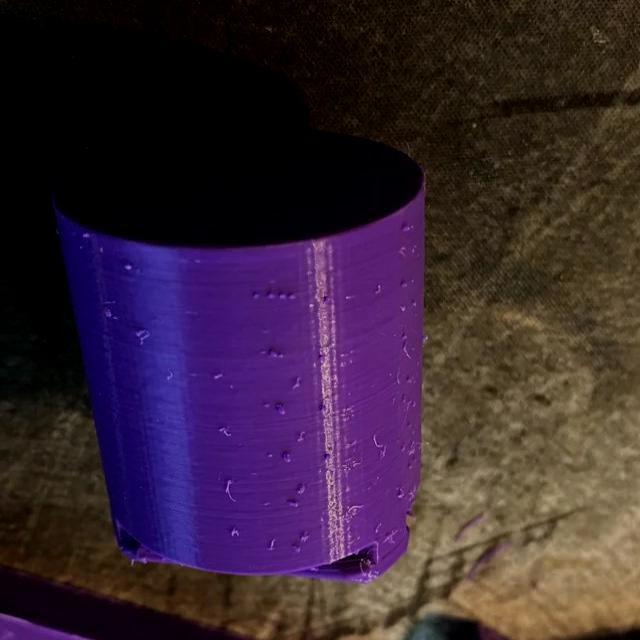zits: (96, 304, 120, 321), (268, 345, 282, 359), (274, 402, 288, 416), (394, 489, 407, 504), (250, 291, 262, 305), (286, 292, 300, 304), (282, 452, 296, 464), (290, 498, 302, 512), (290, 544, 302, 558), (298, 530, 312, 542), (210, 370, 224, 382), (399, 280, 412, 292), (294, 484, 308, 494), (122, 262, 137, 270), (266, 291, 276, 303), (321, 452, 332, 462), (278, 292, 290, 301), (406, 462, 416, 472)
